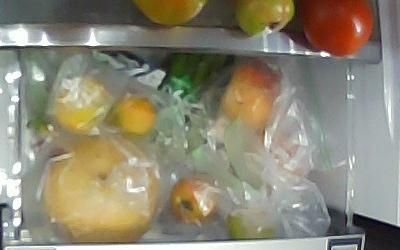peach_vinyl: (220, 63, 282, 128)
pear_vinyl: (44, 137, 158, 244)
tangerine_vinyl: (53, 78, 109, 133), (111, 91, 157, 134)
tomato_vinyl: (170, 175, 219, 224), (227, 204, 275, 240)
